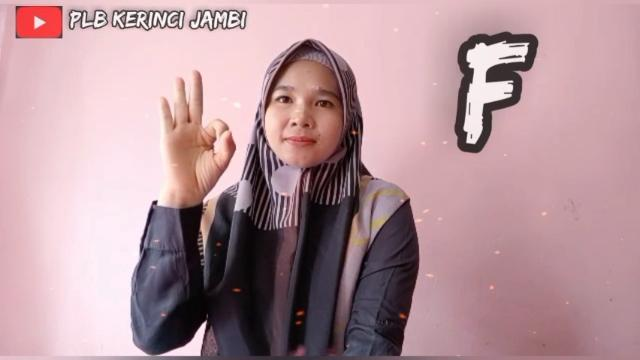F: (156, 69, 238, 193)
